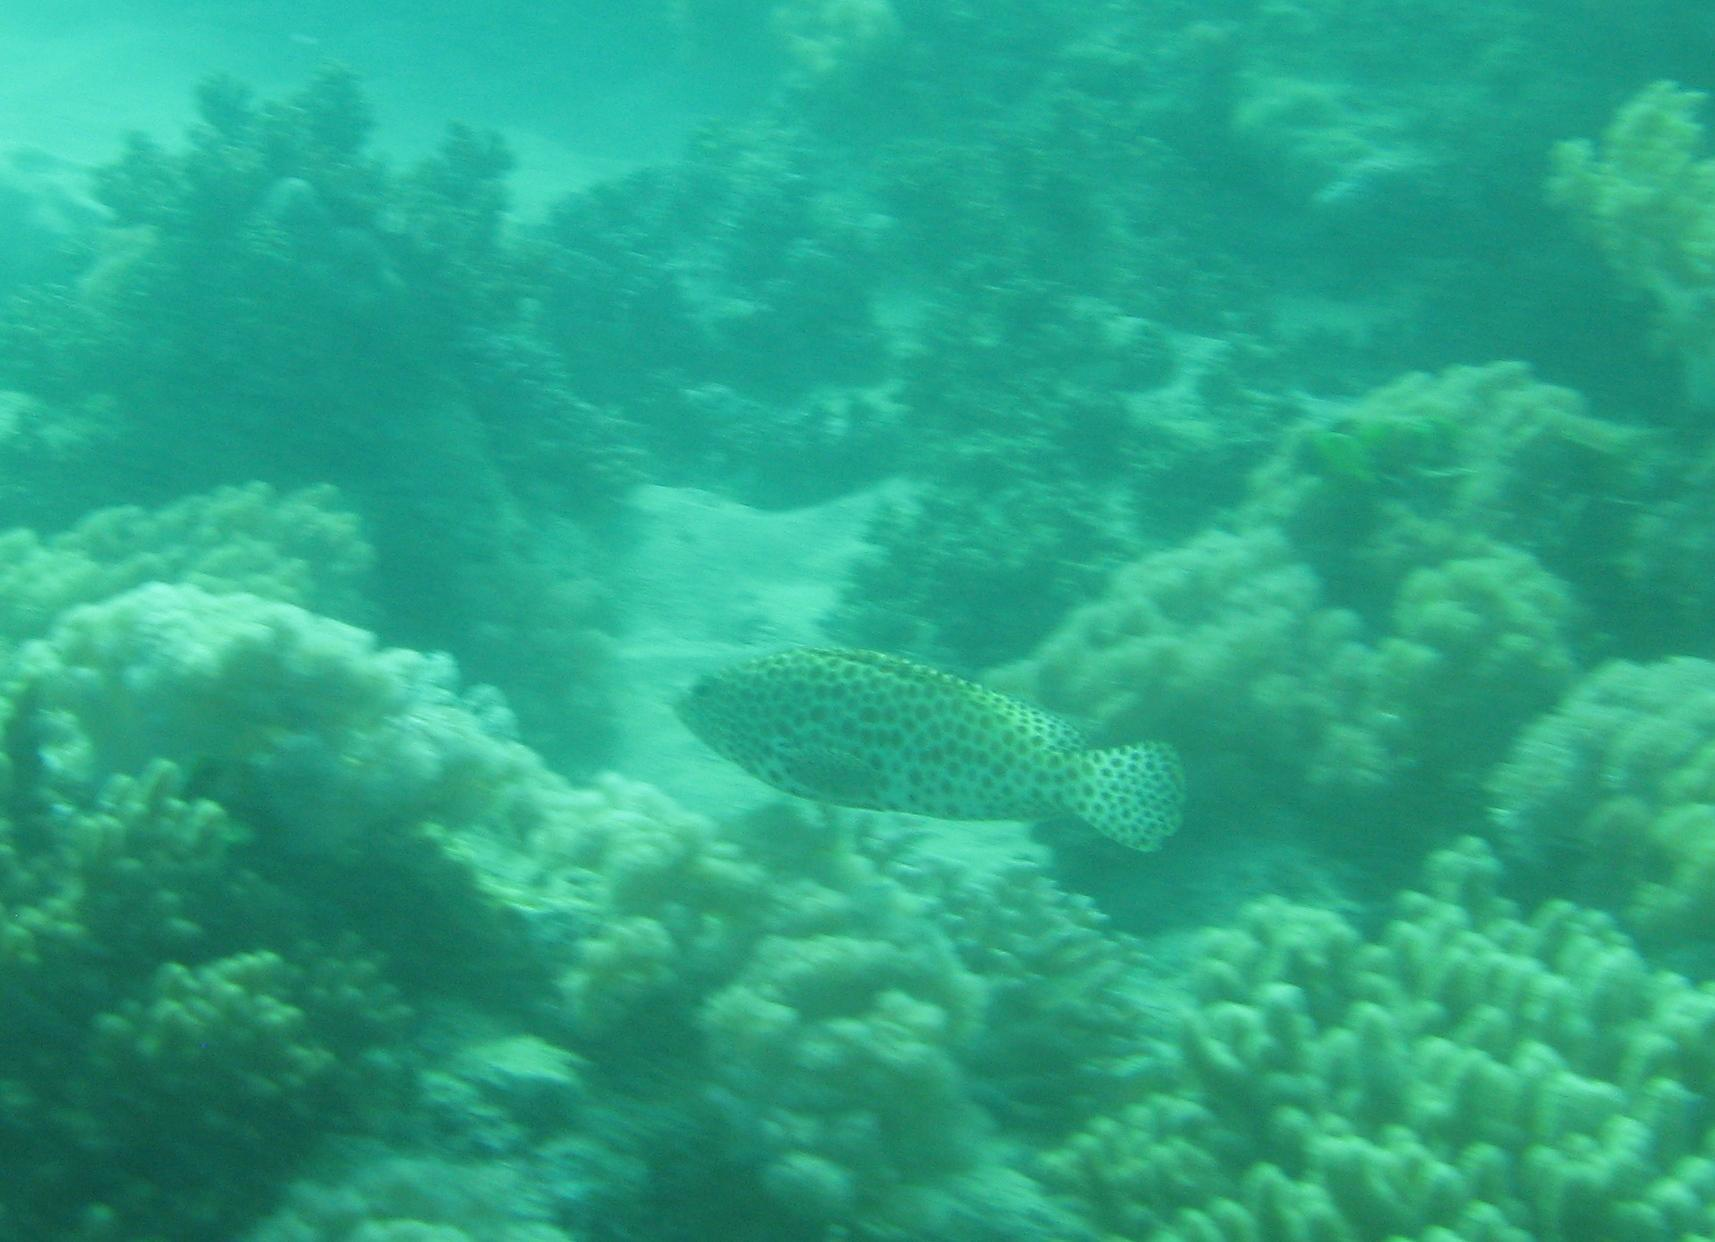Fish: (656, 604, 1230, 931)
